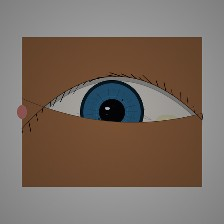pinguecula_lesion: (145, 103, 189, 138)
